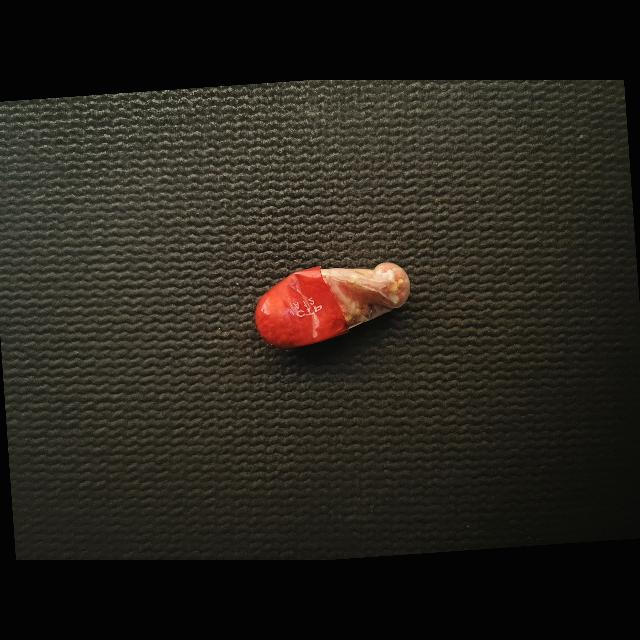Defective Capsule: (255, 262, 410, 348)
